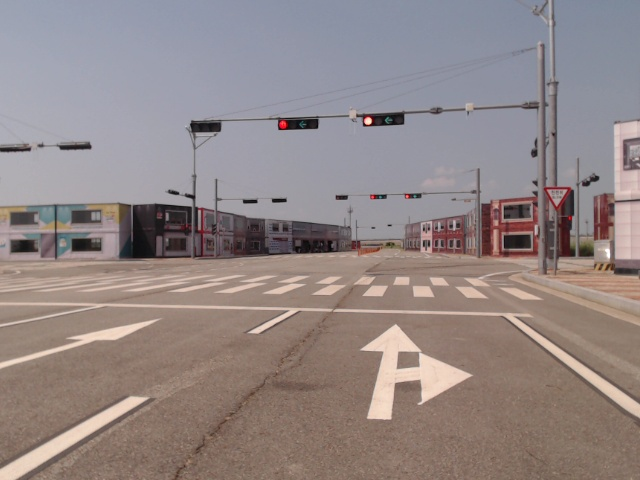left_green_4: (363, 115, 403, 127), (278, 119, 317, 130), (405, 193, 421, 199), (371, 193, 386, 199)
